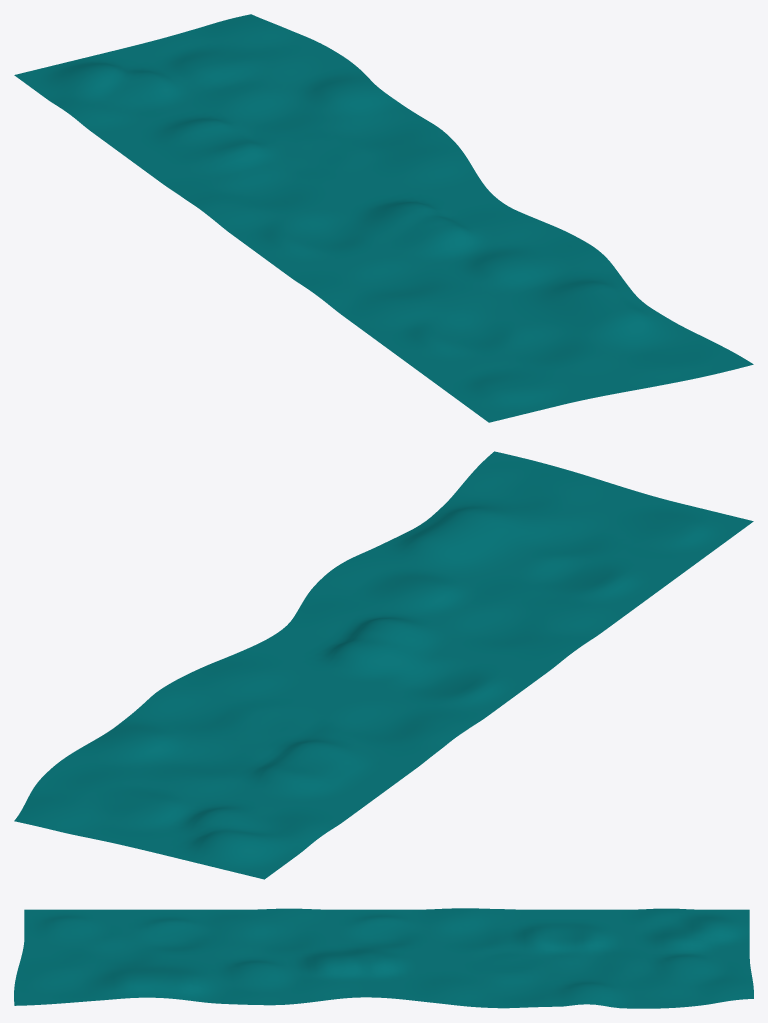
File: sea.fbx
The picture shows the model from 3 angles, top to bottom: view 1: azimuth 30°, elevation 25°; view 2: azimuth 150°, elevation 25°; view 3: azimuth 270°, elevation 25°; orthographic projection. The views are drawn at different scales.
Visible parts, largest first — view 1: Sea; view 2: Sea; view 3: Sea.
Boxes of the visible parts, bbox=[...] form: Sea: bbox=[14, 14, 753, 422]; Sea: bbox=[14, 451, 753, 879]; Sea: bbox=[14, 908, 753, 1008].
Size of the model in its own units: 32.37 by 1.45 by 102.
